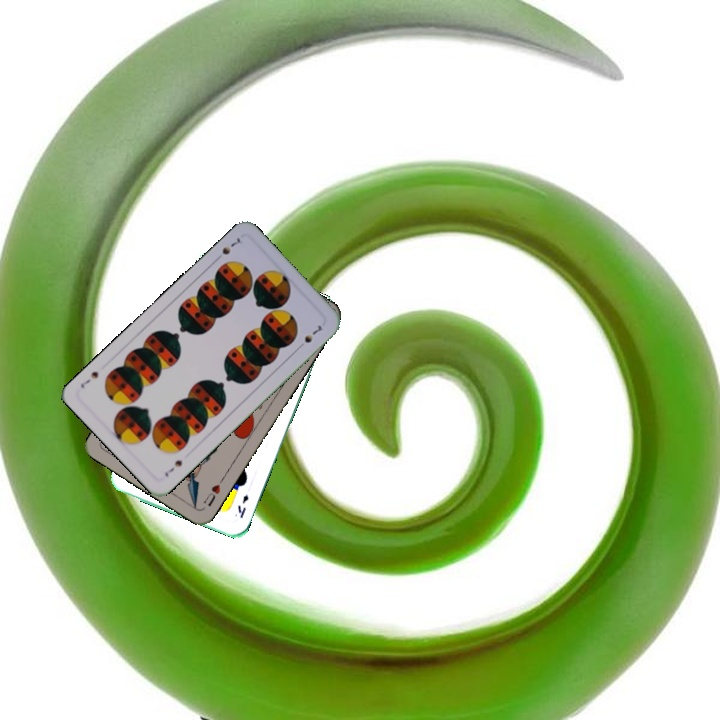EK: (234, 491, 251, 521)
HU: (199, 474, 226, 509)
S7: (211, 233, 244, 264), (161, 456, 185, 479)
